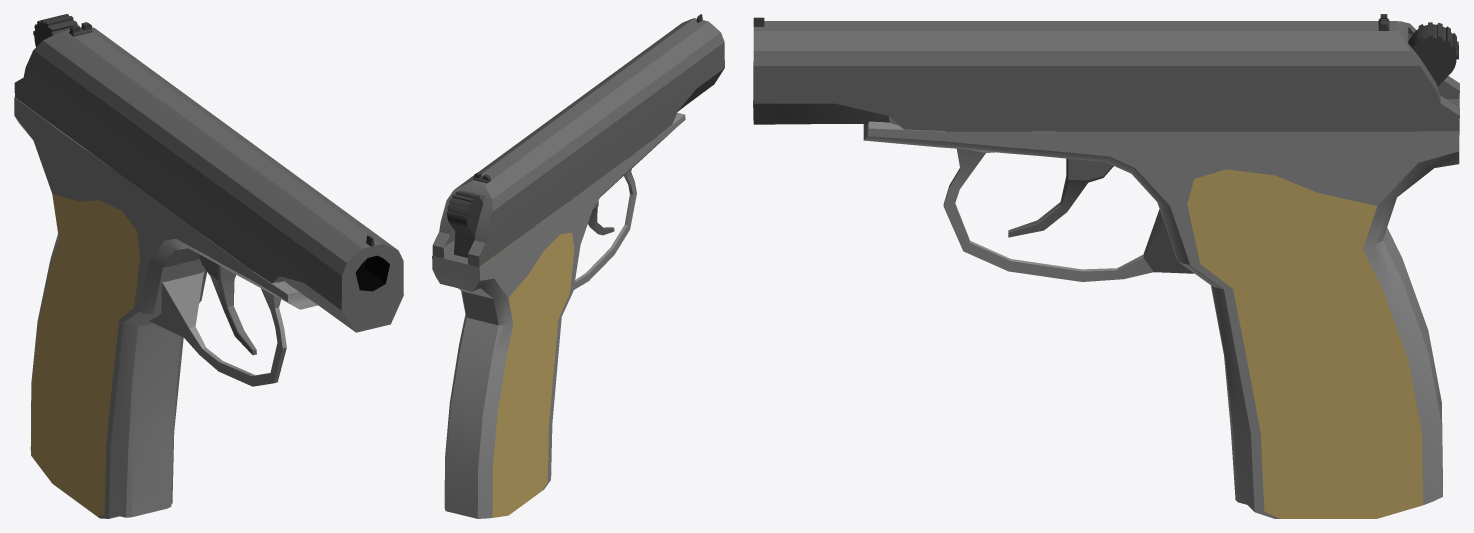
3 views of the same model, side by side, from view 1: azimuth 30°, elevation 25°; view 2: azimuth 150°, elevation 25°; view 3: azimuth 270°, elevation 25° (orthographic). The views are drawn at different scales.
Visible parts, largest first — view 1: pistol_3; view 2: pistol_3; view 3: pistol_3.
Part boxes in pixels (<box>): pistol_3: <box>14,14,403,518</box>; pistol_3: <box>432,14,724,518</box>; pistol_3: <box>753,14,1459,518</box>.
Bounding box in the file's own units: 5.23 × 35.33 × 46.71.
Materials: 1 (1 with a texture image).
